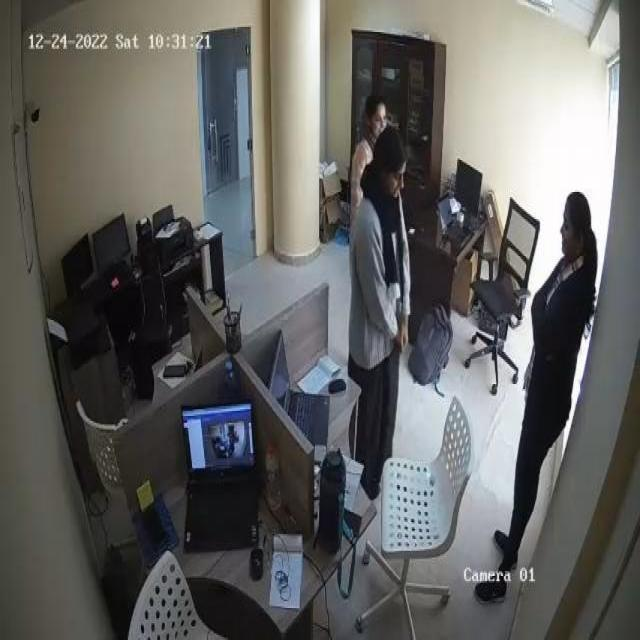bare_hand: (384, 307, 417, 357)
